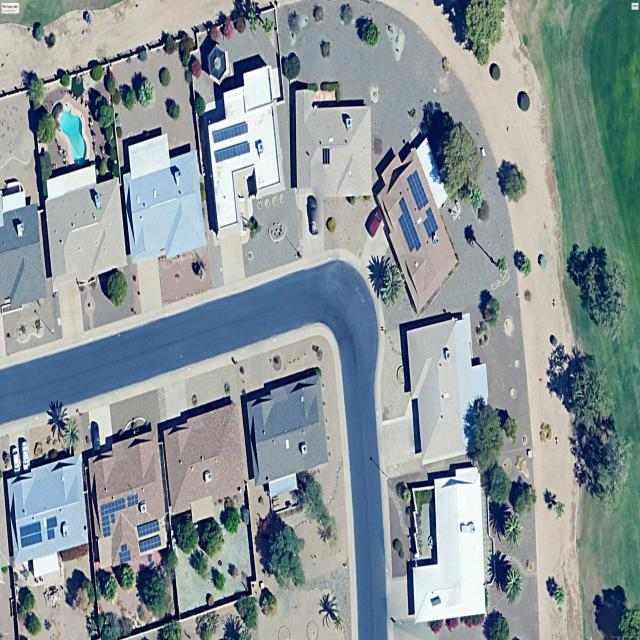Home: (380, 137, 457, 313), (402, 313, 488, 465), (291, 83, 373, 237), (208, 66, 284, 231), (412, 466, 485, 624), (244, 369, 328, 502), (123, 134, 207, 263), (88, 431, 166, 566), (163, 400, 246, 523), (45, 165, 126, 291), (7, 455, 88, 578), (0, 181, 46, 307), (272, 269, 277, 277)
